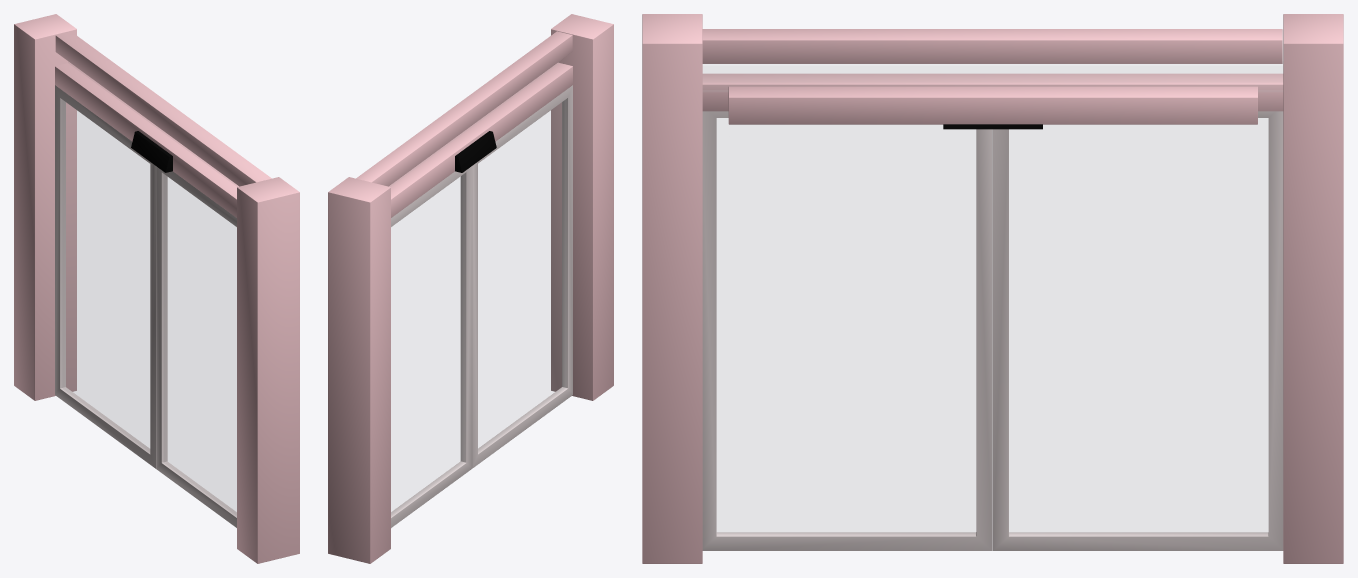
Rendered from security_door.fbx.
The picture shows the model from 3 angles, left to right: view 1: azimuth 30°, elevation 25°; view 2: azimuth 150°, elevation 25°; view 3: azimuth 270°, elevation 25°; orthographic projection. The views are drawn at different scales.
Visible parts, largest first — view 1: Cube.060, Cube.098, Cube.013, Cube.005, Cube.042; view 2: Cube.060, Cube.098, Cube.013, Cube.005, Cube.042; view 3: Cube.060, Cube.098, Cube.095, Cube.013, Cube.061, Cube.005.
Part boxes in pixels (x1=…): Cube.060: x1=55, y1=85, x2=236, y2=527; Cube.098: x1=14, y1=14, x2=299, y2=563; Cube.013: x1=55, y1=31, x2=271, y2=186; Cube.005: x1=55, y1=62, x2=238, y2=217; Cube.042: x1=131, y1=131, x2=172, y2=172; Cube.060: x1=391, y1=85, x2=572, y2=527; Cube.098: x1=328, y1=14, x2=613, y2=563; Cube.013: x1=356, y1=31, x2=572, y2=186; Cube.005: x1=389, y1=62, x2=572, y2=217; Cube.042: x1=455, y1=131, x2=496, y2=172; Cube.060: x1=702, y1=111, x2=1283, y2=550; Cube.098: x1=642, y1=14, x2=1343, y2=563; Cube.095: x1=728, y1=86, x2=1257, y2=124; Cube.013: x1=702, y1=29, x2=1282, y2=63; Cube.061: x1=703, y1=64, x2=1282, y2=91; Cube.005: x1=702, y1=73, x2=1283, y2=111.
Size of the model in its own units: 65.92 by 368 by 449.
